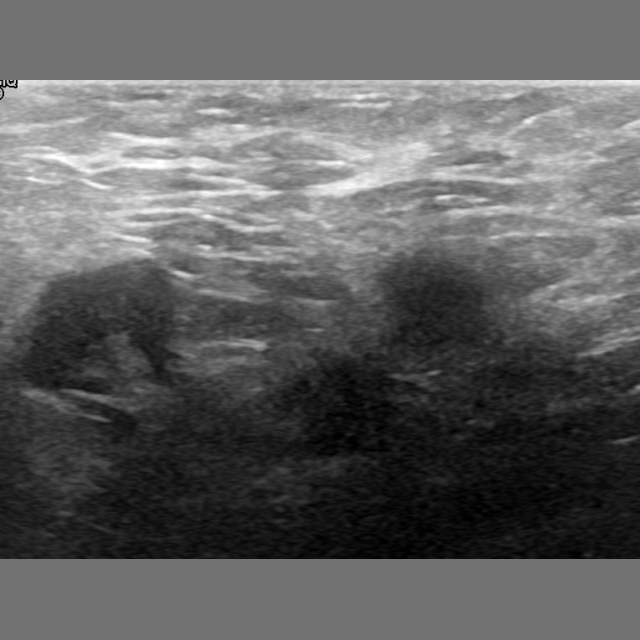cancer: (332, 251, 547, 455)
